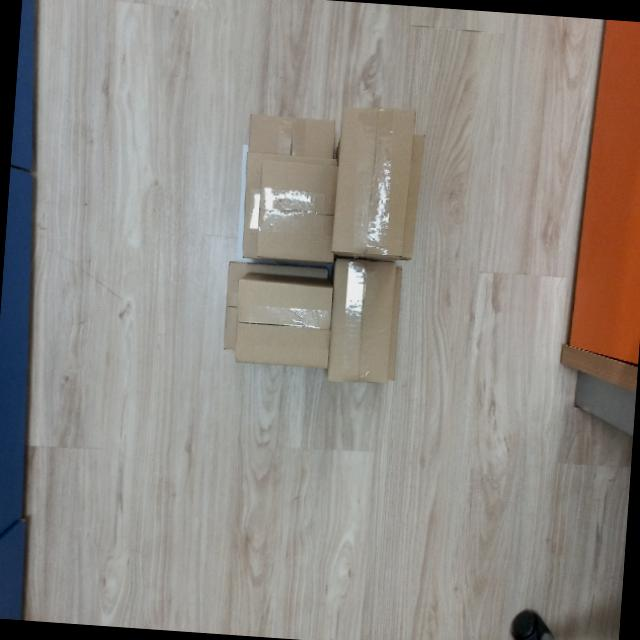box: (328, 102, 421, 263), (229, 272, 336, 372), (324, 254, 402, 390), (250, 151, 339, 266)
